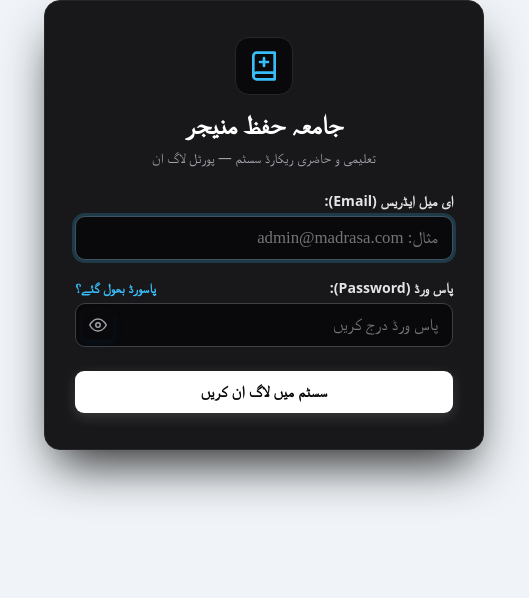
Test: Login Component › handles server error gracefully with clear message
The image size is (529, 598).
Step 1. Type "custom@test.com" into the field labelled "ای میل ایڈریس (Email):" → (264, 238), box [75, 216, 453, 260]
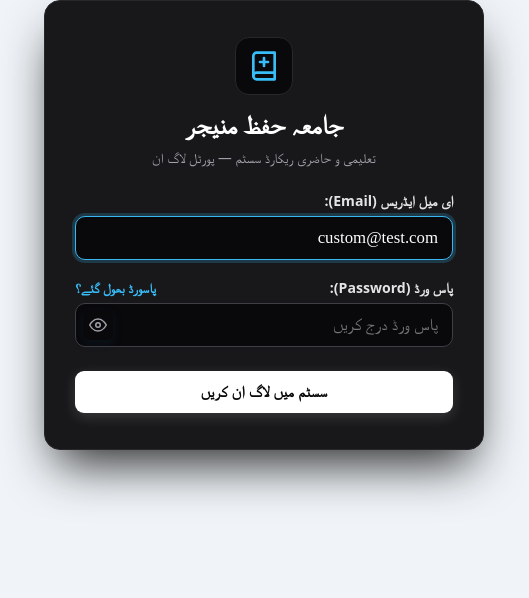
Step 2. Type "pass123" into the password field with placeholder "پاس ورڈ درج کریں" → (264, 325), box [75, 303, 453, 347]
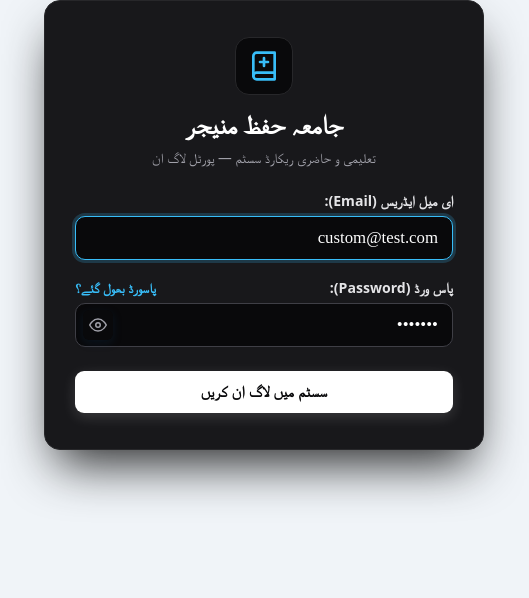
Step 3. Click the button "سسٹم میں لاگ ان کریں" → (264, 392), box [75, 371, 453, 413]
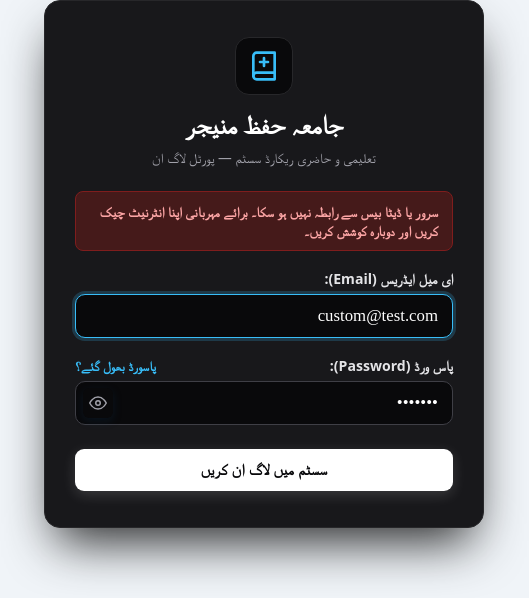
expect the message shows "سرور یا ڈیٹا بیس سے رابطہ نہیں ہو سکا": met, box [100, 202, 438, 240]
